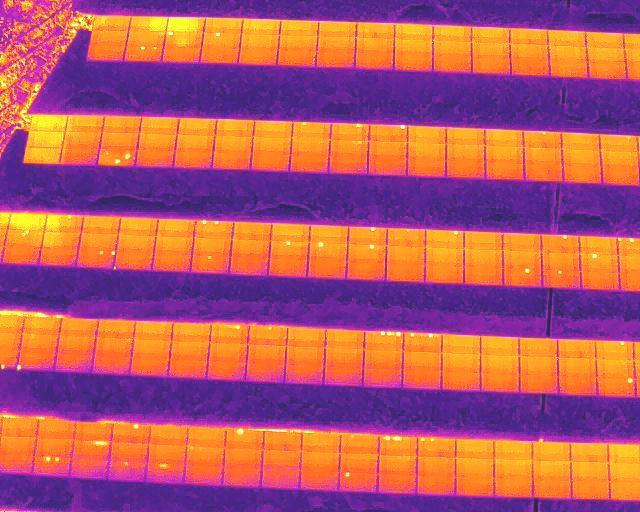Cell: (340, 471, 378, 492), (247, 325, 286, 345), (532, 440, 570, 460), (596, 378, 636, 397), (147, 463, 185, 483), (340, 434, 379, 453), (271, 241, 310, 260), (191, 254, 230, 273), (542, 269, 581, 288), (109, 461, 146, 481), (426, 228, 464, 247), (210, 325, 248, 344), (502, 268, 542, 286), (112, 424, 149, 443), (386, 228, 425, 246), (542, 235, 581, 253), (369, 124, 408, 142), (309, 241, 347, 259), (115, 251, 153, 269), (595, 341, 633, 359), (18, 352, 56, 370), (580, 253, 617, 271), (599, 135, 638, 152), (347, 244, 386, 261), (348, 227, 387, 244), (225, 431, 263, 448), (293, 122, 331, 139), (46, 215, 82, 232), (523, 131, 561, 147), (331, 124, 369, 140), (164, 31, 203, 46), (202, 32, 241, 47)
Cell-Multi: (379, 436, 417, 456), (418, 437, 456, 457), (403, 333, 442, 352), (33, 457, 71, 476), (195, 220, 234, 238), (365, 332, 404, 350), (78, 248, 114, 267), (194, 238, 233, 255), (330, 141, 368, 158), (5, 230, 43, 247), (97, 150, 136, 166), (124, 46, 163, 61)
No-Anomaly: (150, 423, 187, 446), (187, 425, 225, 447), (364, 350, 403, 371), (377, 473, 417, 493), (229, 256, 269, 276), (494, 440, 533, 460), (285, 366, 324, 386), (569, 443, 609, 462), (206, 361, 246, 380), (308, 259, 348, 278), (580, 270, 620, 289), (325, 348, 363, 368), (403, 351, 441, 371), (185, 447, 224, 466), (233, 222, 272, 241), (185, 466, 224, 485), (300, 471, 339, 490), (533, 479, 572, 498), (347, 261, 386, 280), (247, 345, 286, 364), (417, 475, 456, 494), (456, 477, 495, 496), (571, 481, 610, 500), (152, 252, 193, 270), (224, 467, 262, 486), (171, 324, 209, 343), (480, 337, 518, 356), (557, 339, 595, 358), (519, 358, 557, 377), (268, 259, 308, 277), (464, 268, 504, 286), (208, 344, 248, 362), (71, 460, 108, 479), (559, 377, 596, 396), (456, 458, 495, 476), (245, 365, 284, 383), (324, 369, 363, 387), (456, 440, 495, 458), (417, 457, 456, 475), (596, 360, 635, 378), (503, 233, 542, 251), (329, 158, 368, 176), (425, 247, 464, 265), (464, 249, 503, 267), (386, 264, 425, 282), (22, 318, 61, 336), (325, 330, 364, 348), (286, 347, 325, 365), (92, 356, 131, 374), (495, 478, 534, 496), (0, 437, 36, 456), (407, 144, 445, 162), (302, 452, 340, 470), (579, 235, 617, 253), (602, 167, 640, 185), (302, 434, 340, 452), (148, 446, 186, 464), (533, 461, 571, 479), (134, 323, 172, 341), (519, 339, 557, 357), (481, 357, 519, 375), (558, 359, 596, 377), (173, 152, 213, 169), (129, 359, 169, 376), (425, 266, 465, 283), (132, 342, 172, 359), (170, 342, 210, 359), (168, 360, 208, 377), (110, 443, 147, 461), (263, 467, 300, 485), (408, 127, 445, 145), (40, 247, 77, 265), (443, 337, 480, 355), (494, 461, 533, 478), (26, 131, 65, 148), (363, 371, 402, 388), (378, 455, 417, 472), (263, 450, 302, 467), (441, 374, 480, 391), (291, 139, 330, 156), (446, 146, 485, 163), (368, 159, 407, 176), (481, 376, 520, 393), (271, 224, 310, 241), (251, 154, 290, 171), (441, 356, 480, 373), (96, 322, 135, 339), (215, 120, 254, 137), (387, 247, 426, 264), (54, 355, 93, 372), (472, 57, 511, 74), (520, 377, 558, 394), (485, 148, 523, 165), (120, 217, 158, 234), (403, 372, 441, 389), (264, 433, 302, 450), (224, 449, 262, 466), (340, 454, 378, 471), (571, 463, 609, 480), (464, 232, 502, 249), (157, 219, 195, 236), (58, 319, 96, 336), (0, 456, 35, 474), (0, 419, 37, 436), (38, 421, 75, 438), (36, 438, 73, 455), (485, 130, 522, 147), (287, 329, 324, 346), (175, 135, 214, 151), (62, 133, 101, 149), (138, 134, 177, 150), (290, 157, 329, 173), (155, 236, 194, 252), (241, 34, 280, 50), (92, 15, 131, 31), (407, 162, 446, 178), (162, 46, 201, 62), (433, 56, 472, 72), (94, 339, 133, 355), (140, 118, 179, 134), (64, 117, 103, 133), (253, 122, 292, 138), (503, 252, 542, 268), (56, 338, 95, 354), (278, 50, 317, 66), (9, 213, 45, 230), (561, 134, 599, 150), (524, 149, 562, 165), (310, 225, 348, 241), (524, 165, 562, 181), (136, 151, 174, 167), (317, 50, 355, 66), (446, 129, 484, 145), (102, 117, 140, 133), (177, 119, 215, 135), (2, 248, 40, 264), (433, 26, 471, 42), (20, 336, 58, 352), (512, 58, 550, 74), (251, 139, 291, 154), (230, 240, 270, 255), (562, 151, 599, 167), (75, 423, 112, 439), (81, 217, 118, 233), (60, 149, 99, 164), (214, 138, 253, 153), (100, 134, 139, 149), (600, 152, 639, 167), (212, 154, 251, 169), (446, 163, 485, 178), (548, 31, 587, 46), (485, 165, 524, 180), (588, 62, 627, 77), (542, 254, 581, 269), (201, 47, 240, 62), (239, 49, 278, 64), (355, 51, 394, 66), (549, 60, 588, 75), (369, 143, 407, 158), (129, 17, 167, 32), (117, 234, 155, 249), (510, 30, 548, 45), (43, 232, 81, 247), (472, 28, 510, 43), (280, 21, 318, 36), (30, 116, 68, 131), (242, 19, 280, 34), (318, 21, 356, 36), (357, 23, 395, 38), (88, 45, 126, 60), (562, 167, 602, 181), (586, 34, 625, 48), (394, 24, 433, 38), (472, 43, 511, 57), (394, 53, 433, 67), (24, 148, 60, 163), (395, 39, 433, 53), (127, 31, 165, 45), (279, 36, 317, 50), (433, 42, 471, 56), (548, 47, 588, 60), (204, 18, 241, 32), (79, 233, 116, 247), (317, 36, 356, 49), (587, 48, 626, 61), (90, 32, 128, 45), (166, 18, 204, 31), (511, 45, 549, 58), (356, 37, 394, 49)
Unclassified: (73, 440, 109, 460)
